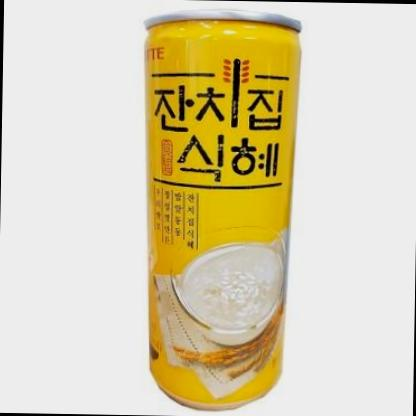alumunium_can: (128, 5, 309, 415)
